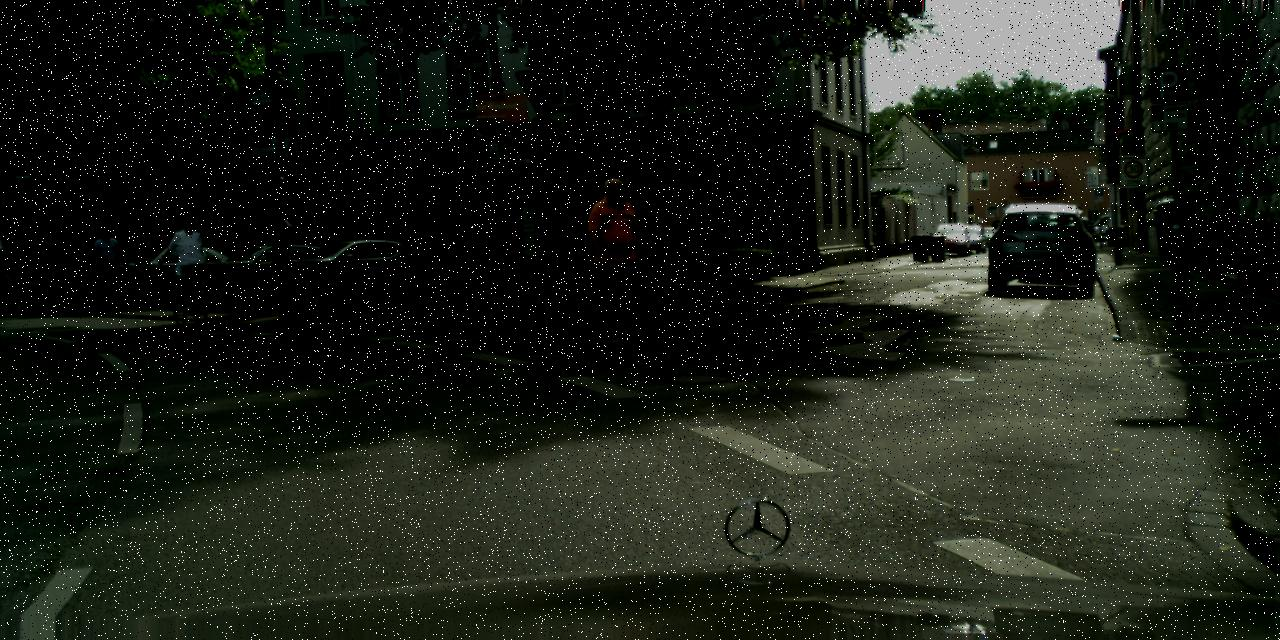ped: (586, 178, 652, 340), (166, 214, 205, 310), (91, 228, 123, 306), (766, 212, 792, 276)
